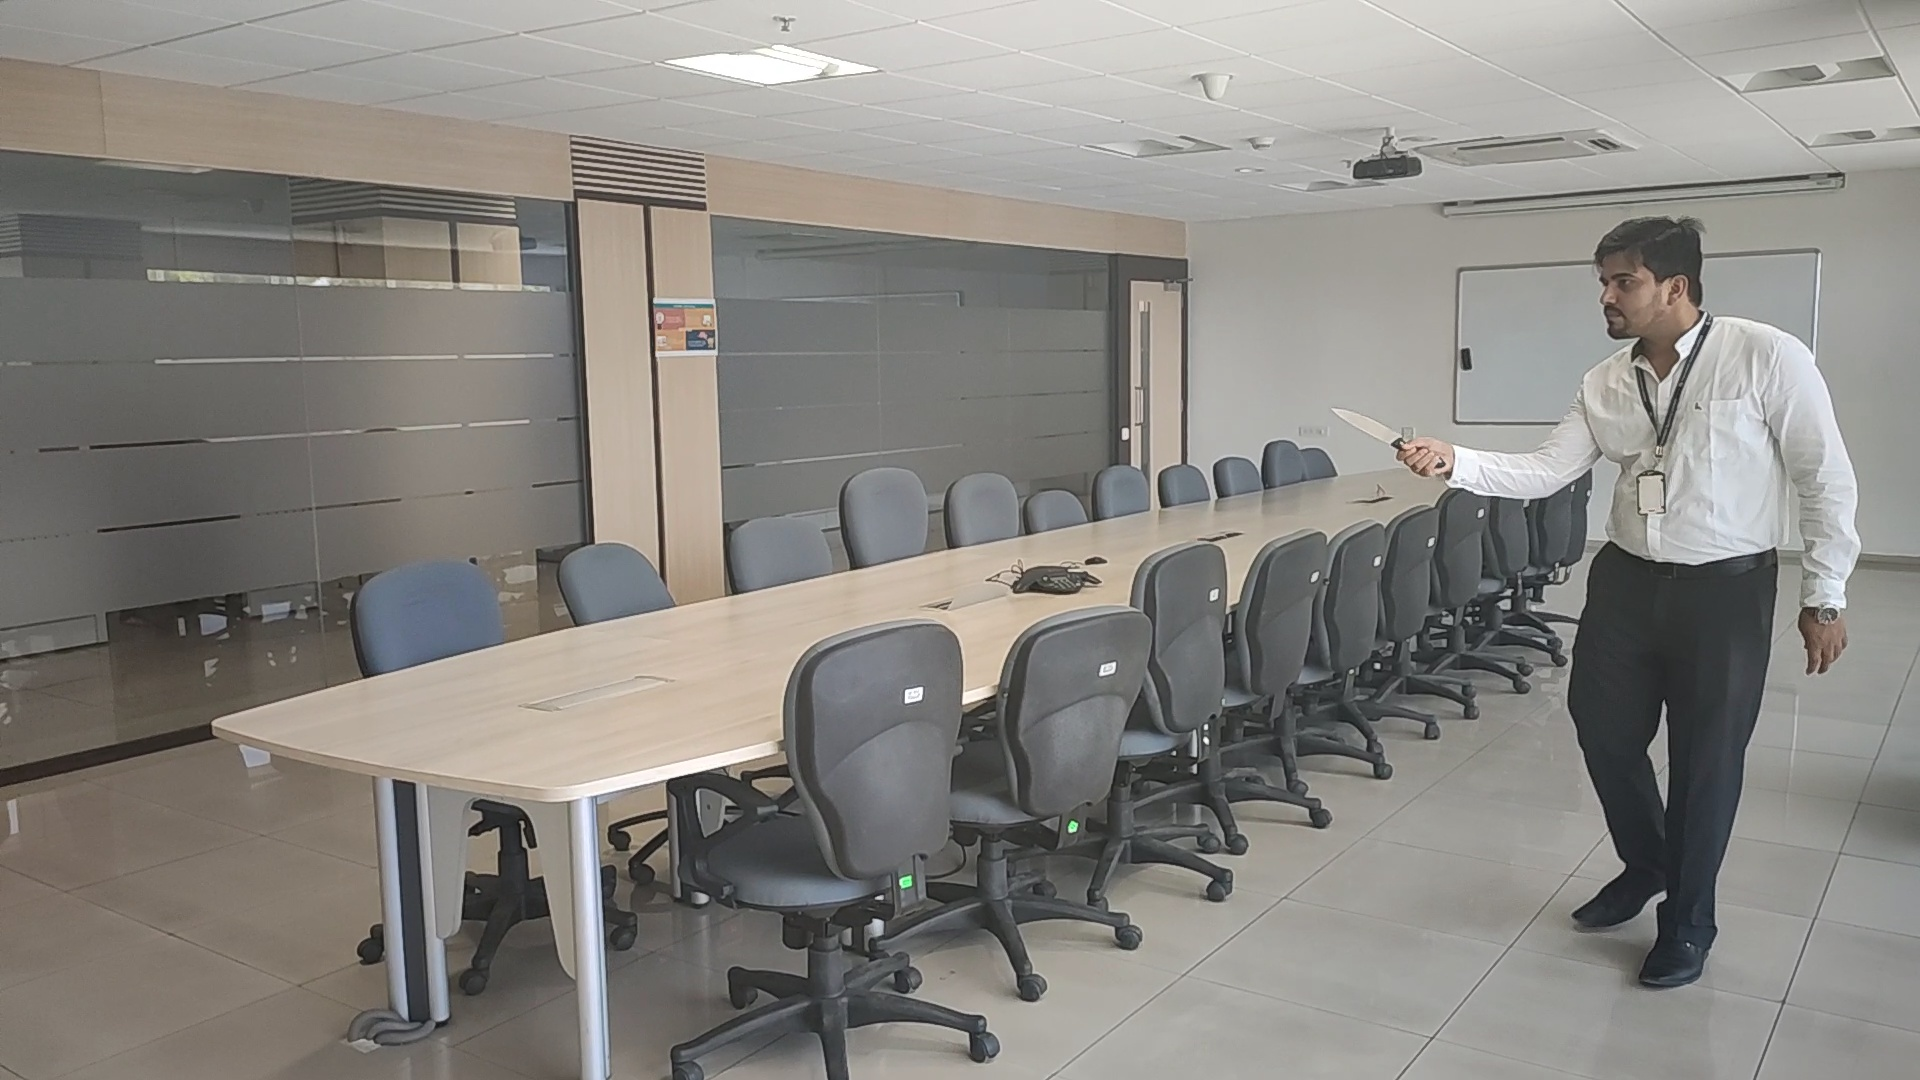knife: (1327, 402, 1398, 448)
